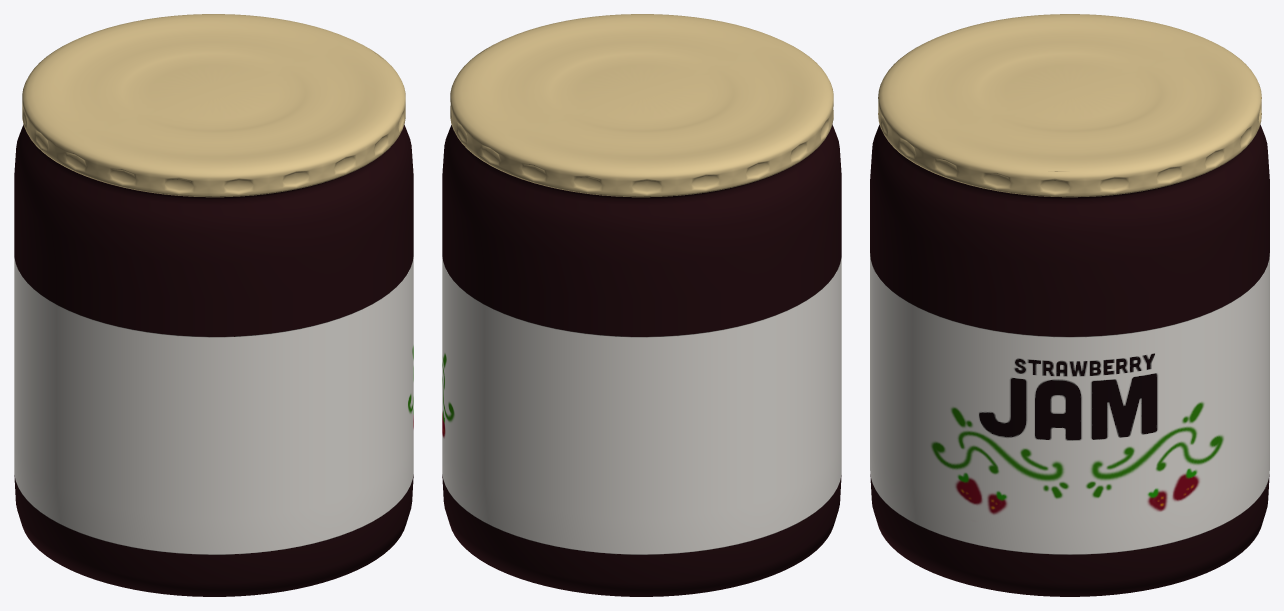
The model's file is 딸기잼 0.fbx.
The picture shows the model from 3 angles, left to right: view 1: azimuth 30°, elevation 25°; view 2: azimuth 150°, elevation 25°; view 3: azimuth 270°, elevation 25°; orthographic projection.
Parts seen in each view (by area): view 1: Cylinder001; view 2: Cylinder001; view 3: Cylinder001.
Boxes of the visible parts, x1,y1,x2,y2 form: Cylinder001: (14,14,413,596); Cylinder001: (442,14,841,596); Cylinder001: (870,14,1269,596).
Bounding box in the file's own units: 39.88 × 47.67 × 39.88.
Materials: 1 (1 with a texture image).
